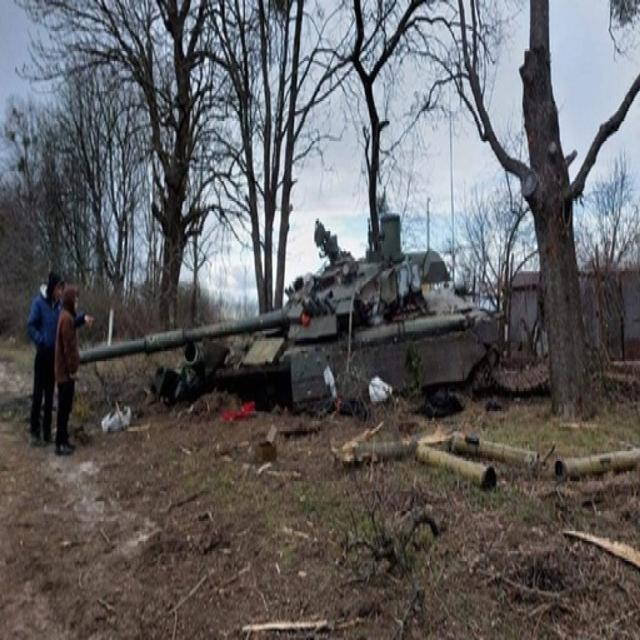TANK: (75, 207, 497, 453)
